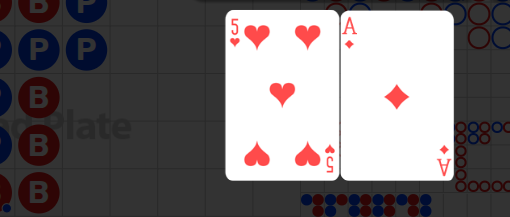5H: (229, 17, 241, 49)
AD: (435, 142, 451, 176)
